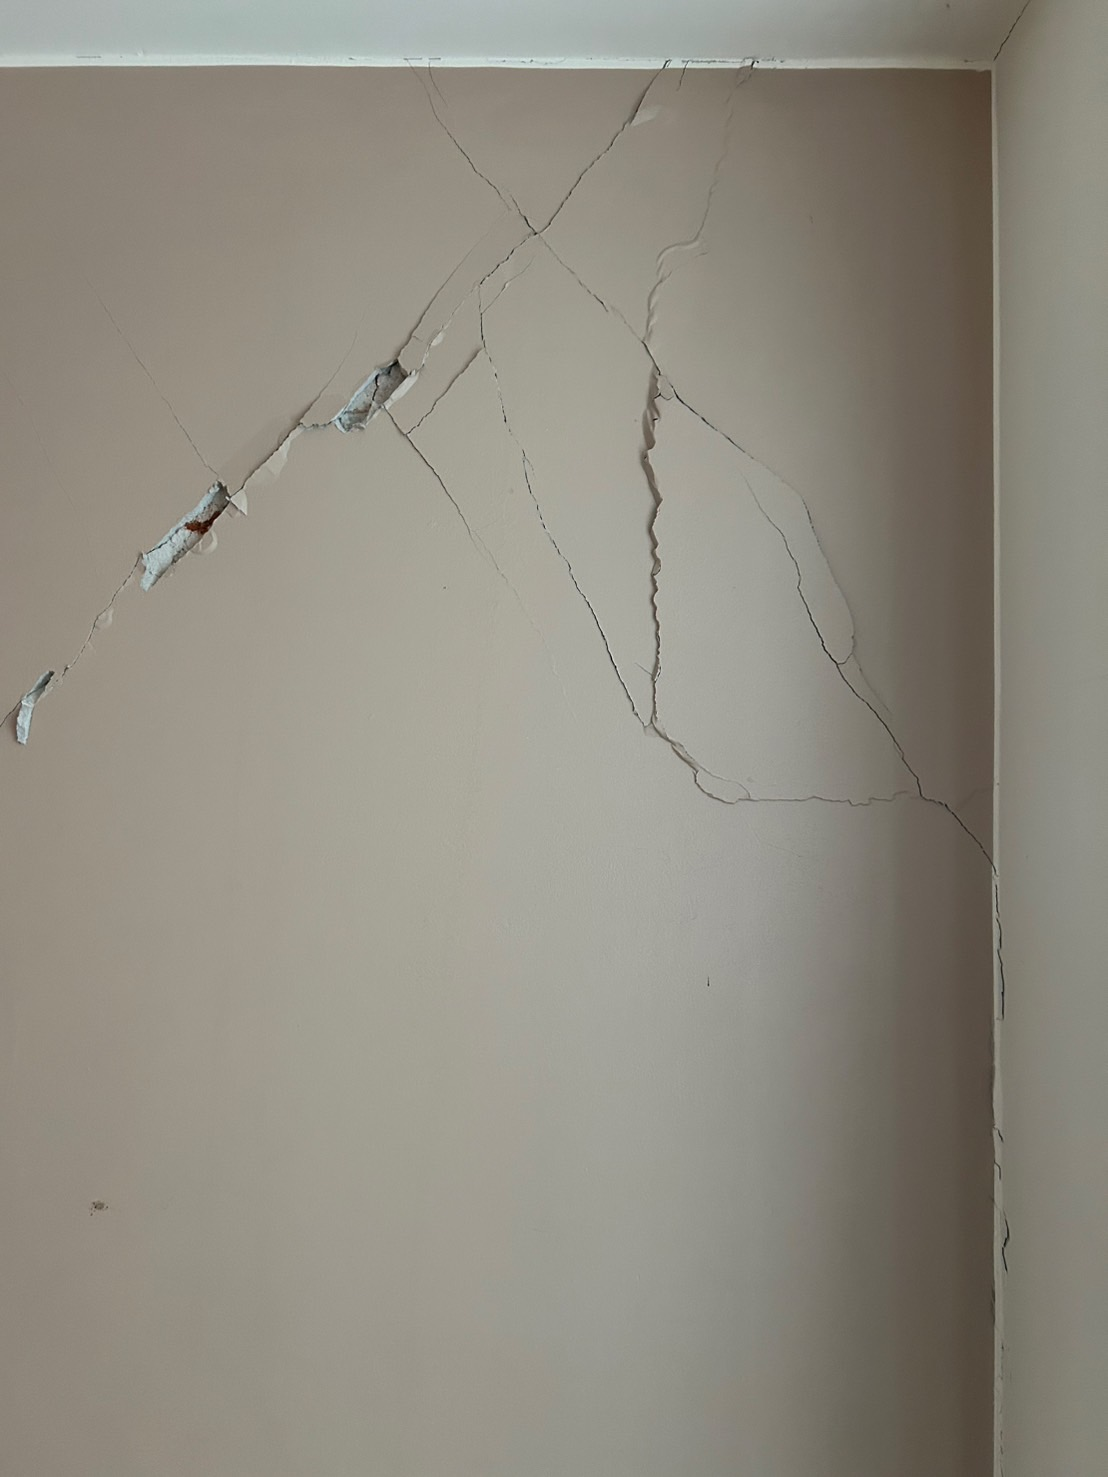Medium: (15, 78, 933, 881)
